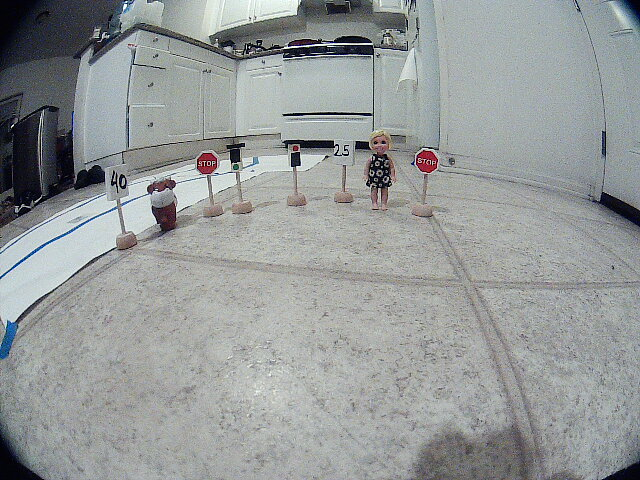Cow: (139, 171, 187, 247)
Green Traffic Light: (223, 140, 250, 176)
Person: (360, 127, 403, 220)
Red Traffic Light: (281, 138, 311, 174)
Speed Limit 25: (327, 134, 365, 173)
Speed Limit 40: (103, 164, 136, 204)
Stop Sign: (412, 142, 448, 181), (187, 147, 227, 179)
